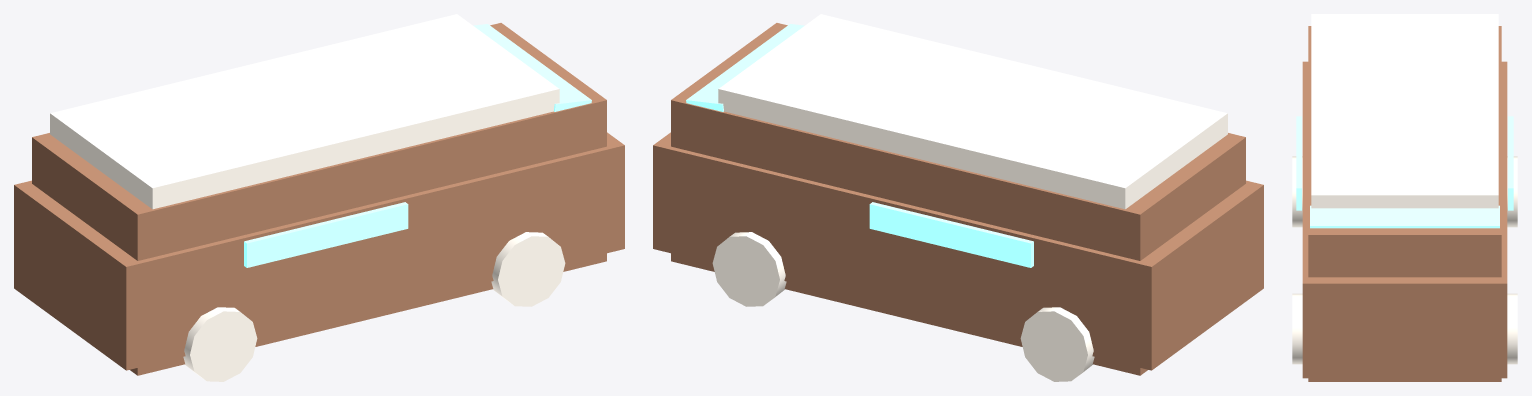
Rendered from bus.glb.
The picture shows the model from 3 angles, left to right: view 1: azimuth 30°, elevation 25°; view 2: azimuth 150°, elevation 25°; view 3: azimuth 270°, elevation 25°; orthographic projection. The views are drawn at different scales.
Visible parts, largest first — view 1: bus:near:surface:1, bus:near:surface:0, bus:far:surface:0, bus:near:surface:2; view 2: bus:near:surface:1, bus:near:surface:0, bus:far:surface:0, bus:near:surface:2; view 3: bus:near:surface:1, bus:near:surface:0, bus:far:surface:0, bus:near:surface:2.
Part boxes in pixels (box(x1,y1,x2,y2)): bus:near:surface:1: box(50, 14, 565, 381); bus:near:surface:0: box(14, 132, 624, 370); bus:far:surface:0: box(32, 23, 606, 375); bus:near:surface:2: box(244, 24, 591, 267); bus:near:surface:1: box(712, 14, 1227, 381); bus:near:surface:0: box(653, 132, 1263, 370); bus:far:surface:0: box(671, 23, 1245, 375); bus:near:surface:2: box(686, 24, 1033, 267); bus:near:surface:1: box(1292, 14, 1517, 364); bus:near:surface:0: box(1302, 61, 1507, 378); bus:far:surface:0: box(1308, 26, 1501, 381); bus:near:surface:2: box(1296, 116, 1513, 228).
Size of the model in its own units: 6.8 by 2.62 by 2.92.
